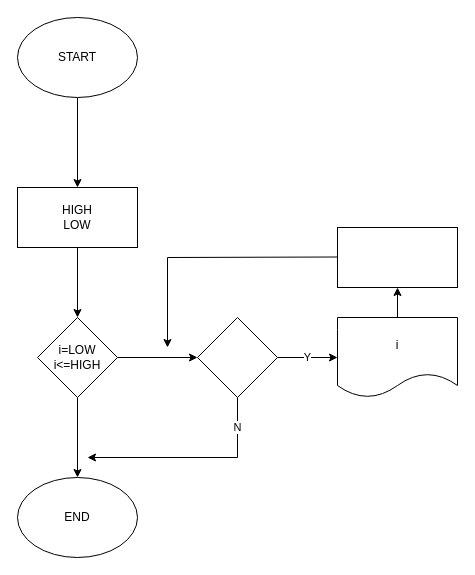
This 475x575 diagram has some shape labels left out. Each missing label, with the centre of its shape:
i%NUMBER ==0: pixel 237 357
i++: pixel 397 257
